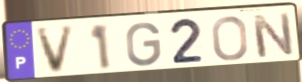1: (89, 22, 112, 72)
2: (168, 16, 207, 66)
G: (124, 21, 163, 68)
N: (250, 11, 297, 60)
O: (210, 14, 250, 62)
V: (34, 24, 78, 76)
